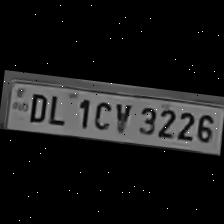1: (68, 92, 92, 128)
2: (154, 104, 177, 137), (172, 107, 194, 141)
3: (134, 101, 158, 135)
6: (191, 108, 215, 142)
C: (89, 96, 115, 130)
D: (22, 88, 48, 122)
L: (44, 90, 70, 125)
V: (109, 97, 132, 132)
